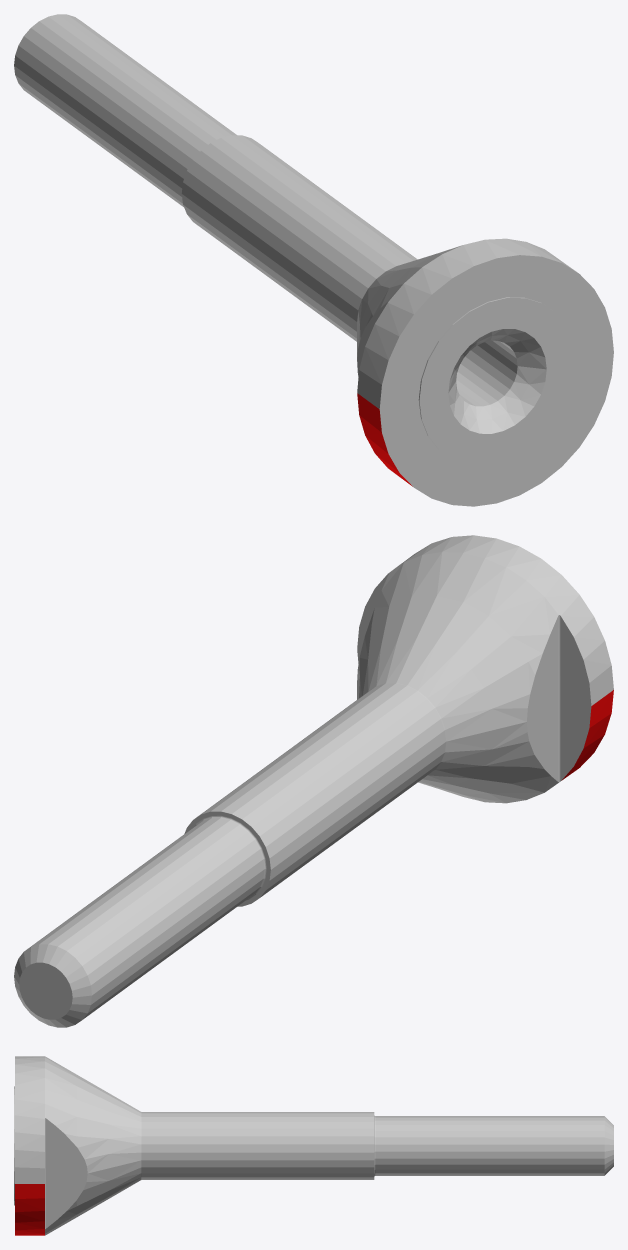
File: AE041738_STEP_13.obj
3 renders of one model, top to bottom at view 1: azimuth 30°, elevation 25°; view 2: azimuth 150°, elevation 25°; view 3: azimuth 270°, elevation 25°, orthographic. The views are drawn at different scales.
Parts seen in each view (by area): view 1: Object1; view 2: Object1; view 3: Object1.
Boxes of the visible parts, x1=… form: Object1: x1=14, y1=14, x2=613, y2=506; Object1: x1=14, y1=535, x2=613, y2=1027; Object1: x1=14, y1=1056, x2=613, y2=1235.
Bounding box in the file's own units: 19.05 × 19.05 × 63.6.
